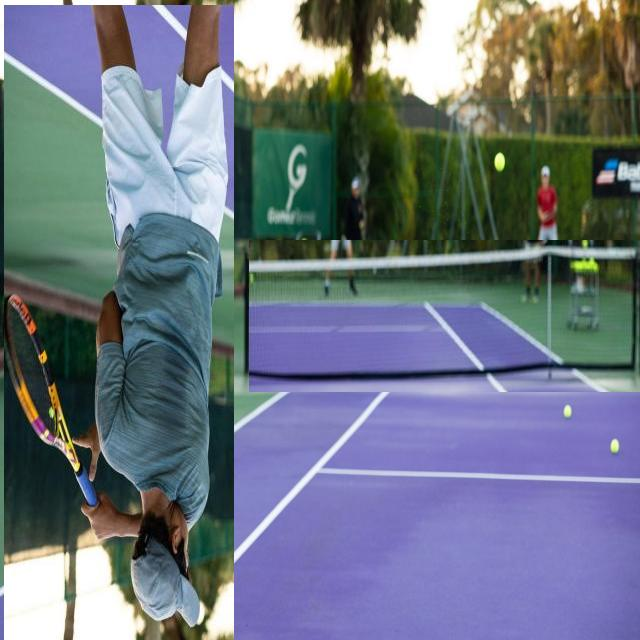net: (249, 240, 640, 392)
player: (4, 5, 234, 640)
